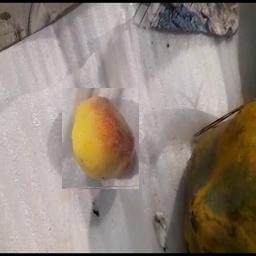Peach Semifresh: (63, 89, 140, 190)
